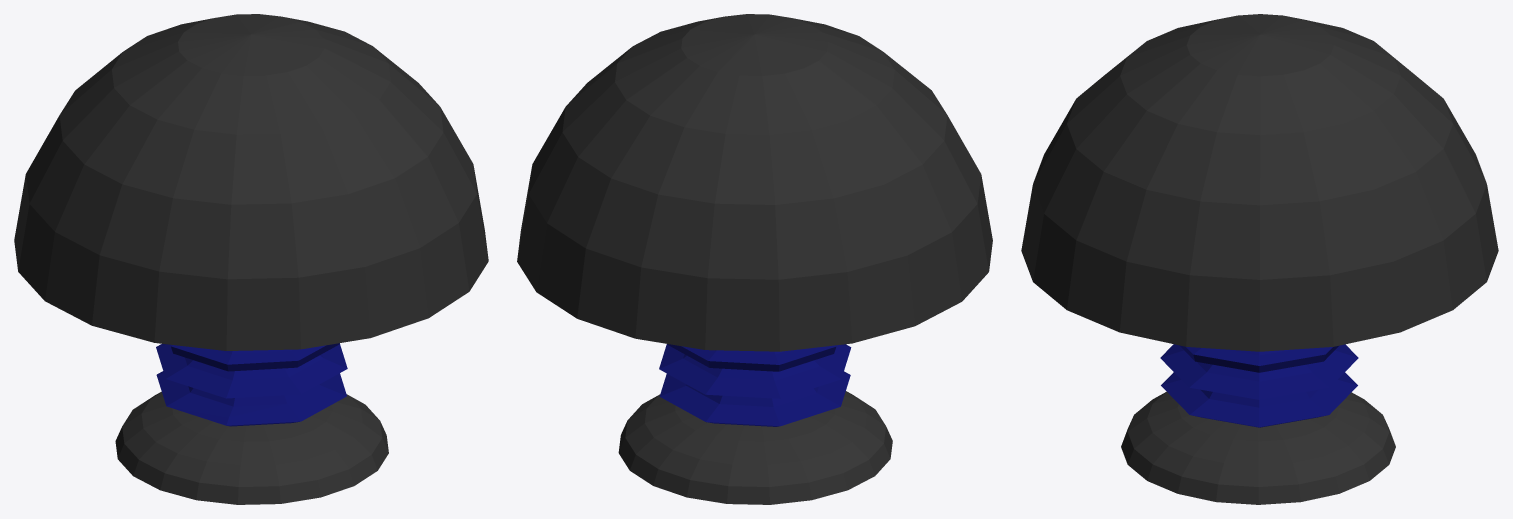
Rendered from baseSpring.FBX.
3 renders of one model, left to right at view 1: azimuth 30°, elevation 25°; view 2: azimuth 150°, elevation 25°; view 3: azimuth 270°, elevation 25°, orthographic.
Visible parts, largest first — view 1: Hose001; view 2: Hose001; view 3: Hose001.
Part boxes in pixels (<box>): Hose001: <box>14,14,488,504</box>; Hose001: <box>517,14,992,504</box>; Hose001: <box>1021,14,1498,504</box>.
Bounding box in the file's own units: 41.09 × 39.15 × 41.09.
